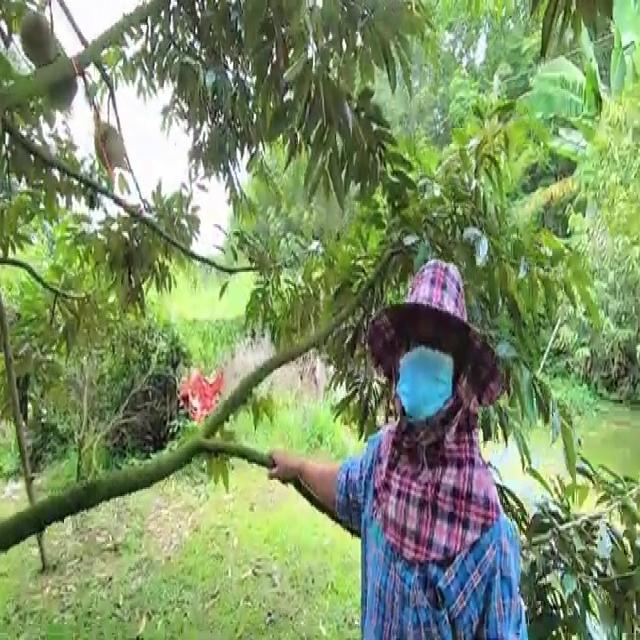durian: (15, 10, 59, 68), (90, 113, 127, 172)
